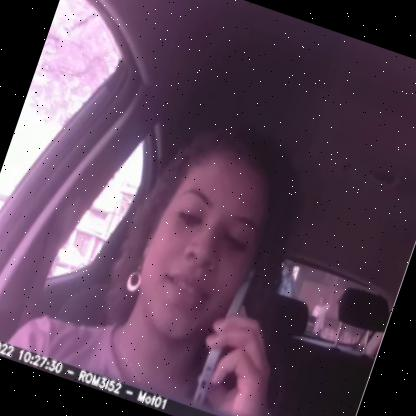phone: (184, 255, 280, 415)
